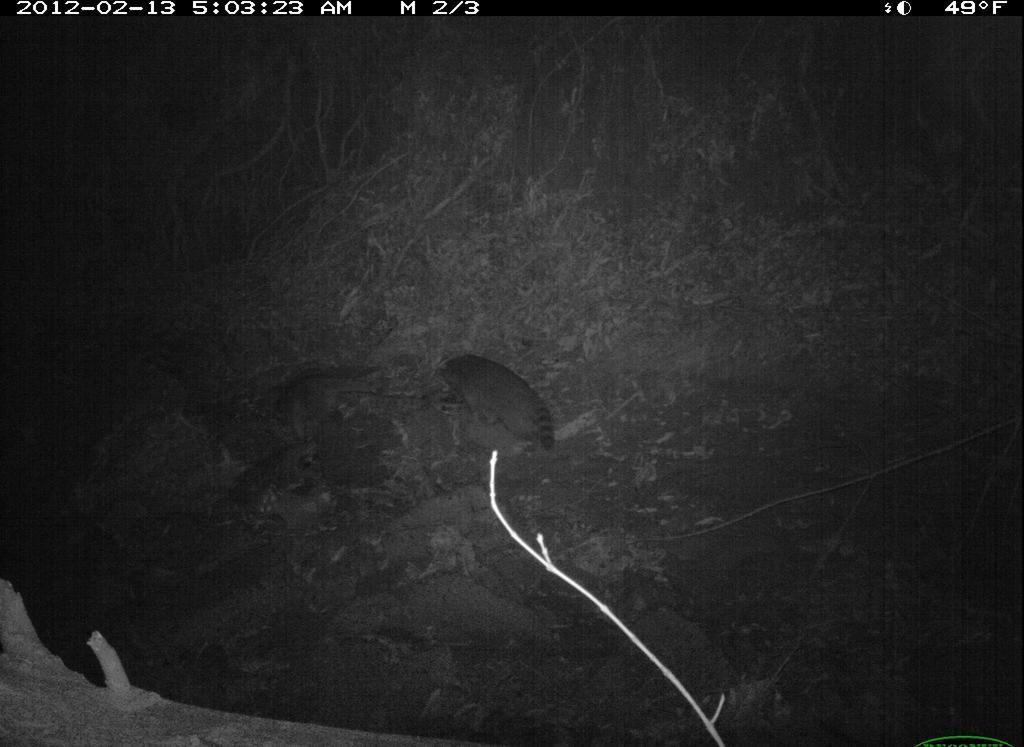raccoon: (432, 326, 583, 469)
